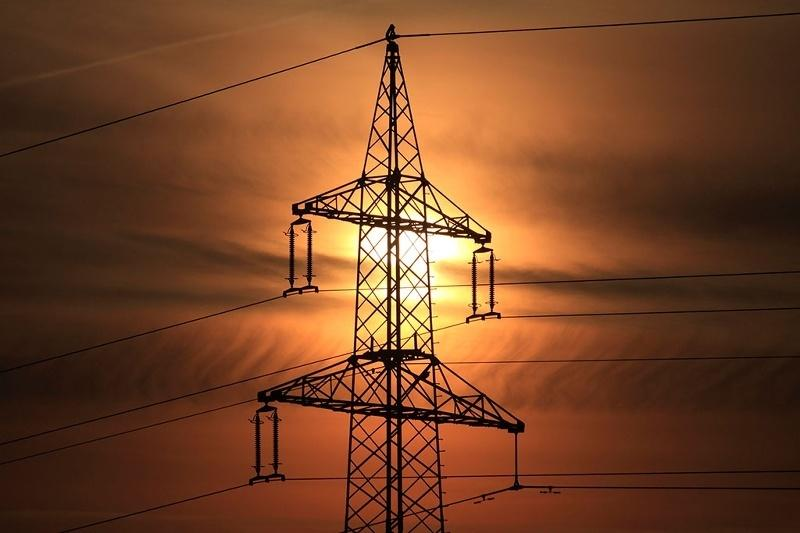power_tower: (288, 33, 490, 529)
